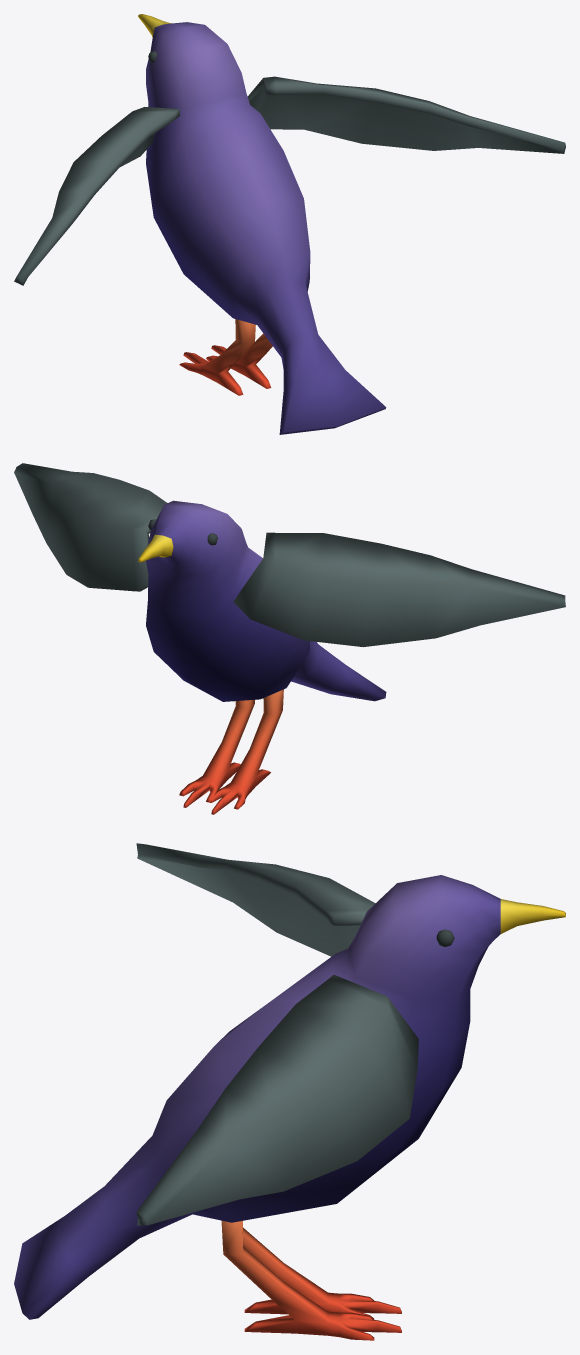
File: Eastern Starling.fbx
The picture shows the model from 3 angles, top to bottom: view 1: azimuth 30°, elevation 25°; view 2: azimuth 150°, elevation 25°; view 3: azimuth 270°, elevation 25°; orthographic projection. The views are drawn at different scales.
Parts seen in each view (by area): view 1: Cube.017; view 2: Cube.017; view 3: Cube.017.
Part boxes in pixels (left/top/right/bottom): Cube.017: left=14, top=14, right=565, bottom=434; Cube.017: left=14, top=463, right=565, bottom=814; Cube.017: left=14, top=843, right=565, bottom=1340.
Size of the model in its own units: 778 by 423 by 484.
